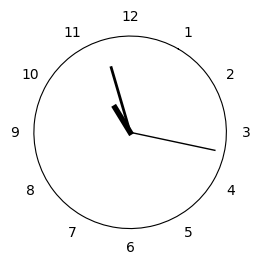12: (122, 10, 138, 22)
circle: (34, 36, 227, 229)
hours: (111, 104, 132, 136)
minutes: (109, 67, 130, 128)
seconds: (133, 133, 216, 150)
